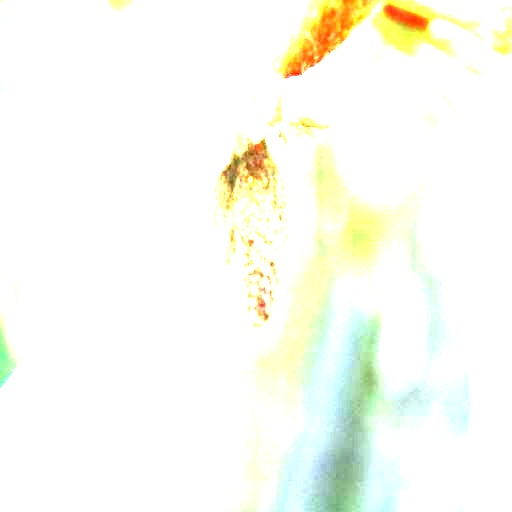Gray Mold: (182, 69, 336, 332)
